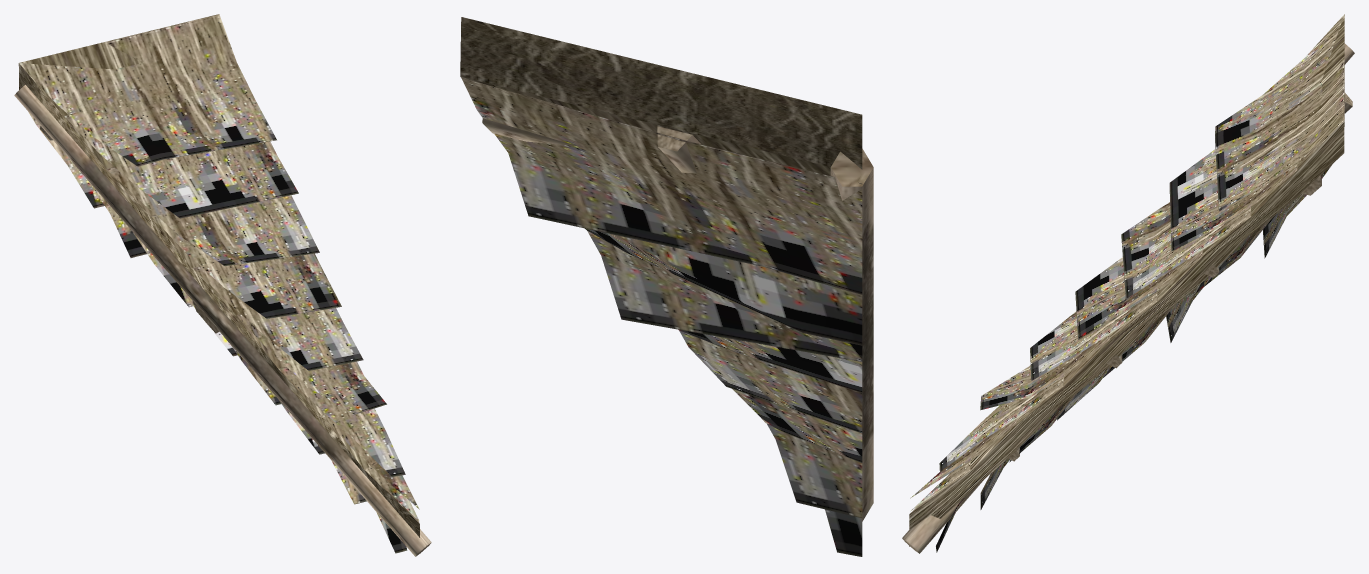
File: roof.twig.corner.60.concave.l.glb
3 views of the same model, side by side, from view 1: azimuth 30°, elevation 25°; view 2: azimuth 150°, elevation 25°; view 3: azimuth 270°, elevation 25° (orthographic). The views are drawn at different scales.
Parts seen in each view (by area): view 1: LOD0; view 2: LOD0; view 3: LOD0.
Boxes of the visible parts, x1,y1,x2,y2 form: LOD0: (14, 14, 431, 556); LOD0: (460, 17, 873, 556); LOD0: (902, 14, 1354, 553).
Bounding box in the file's own units: 1.87 × 3.35 × 3.13.
Materials: 1 (1 with a texture image).
